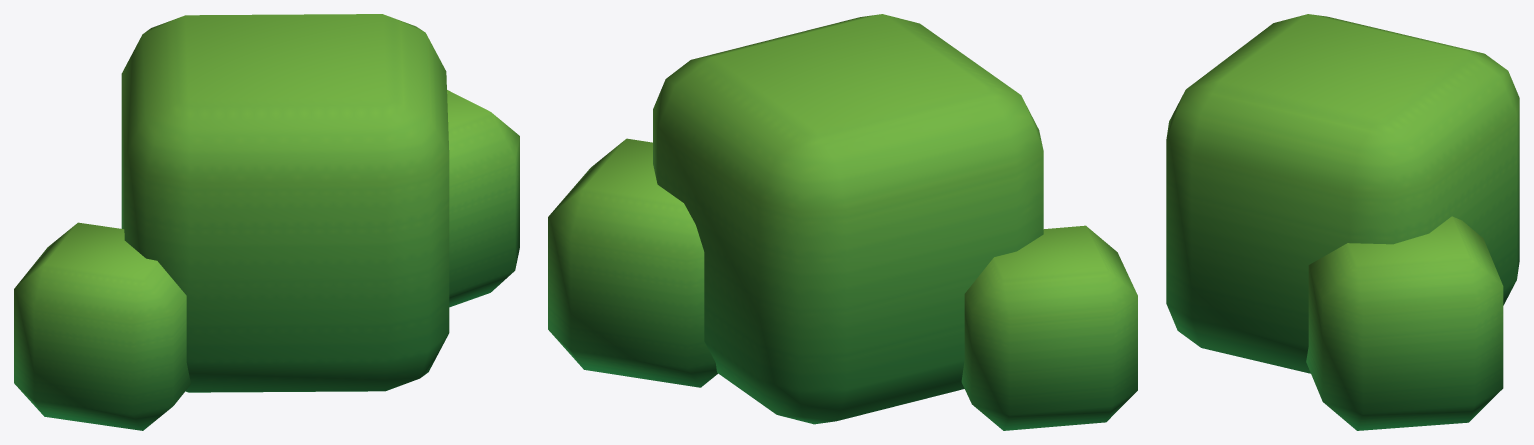
File: Bush_2_D_Color1.gltf
3 renders of one model, left to right at view 1: azimuth 30°, elevation 25°; view 2: azimuth 150°, elevation 25°; view 3: azimuth 270°, elevation 25°, orthographic. The views are drawn at different scales.
Visible parts, largest first — view 1: Bush_2_D_Color1; view 2: Bush_2_D_Color1; view 3: Bush_2_D_Color1.
Part boxes in pixels (x1=…): Bush_2_D_Color1: x1=14, y1=14, x2=519, y2=430; Bush_2_D_Color1: x1=548, y1=14, x2=1137, y2=430; Bush_2_D_Color1: x1=1166, y1=14, x2=1519, y2=430.
Size of the model in its own units: 1.57 by 0.858 by 1.02.
Materials: 1 (1 with a texture image).
